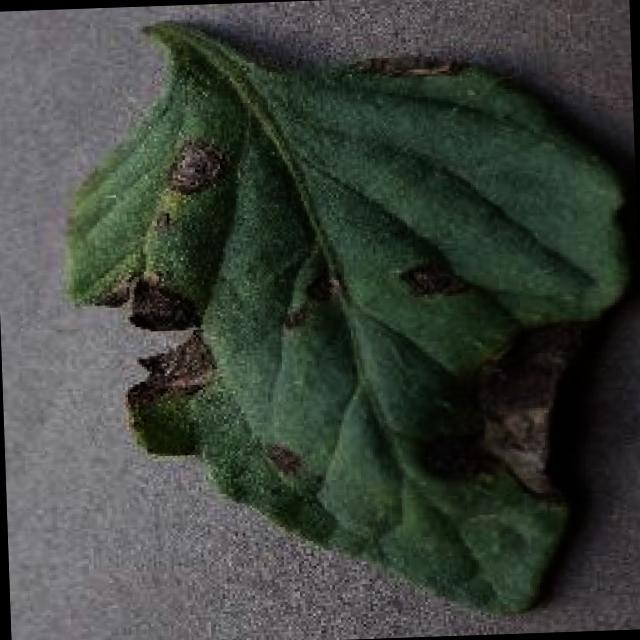Tomato Early blight leaf: (62, 49, 636, 632)
